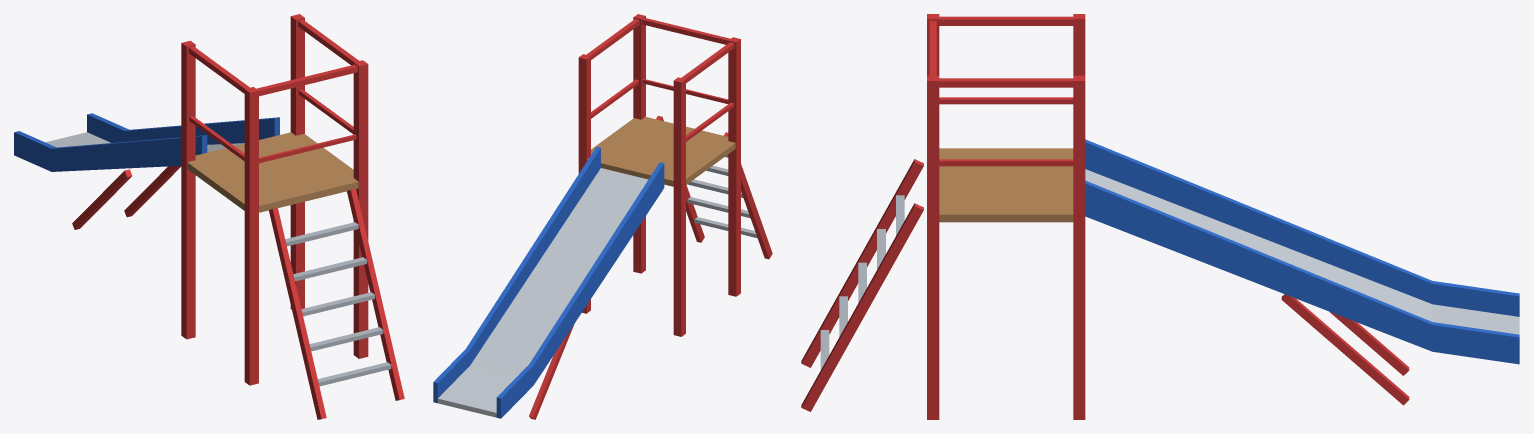
The model's file is slide.glb.
3 renders of one model, left to right at view 1: azimuth 30°, elevation 25°; view 2: azimuth 150°, elevation 25°; view 3: azimuth 270°, elevation 25°, orthographic. The views are drawn at different scales.
Parts seen in each view (by area): view 1: Body; view 2: Body; view 3: Body.
Boxes of the visible parts, <box> form: Body: <box>14,14,404,419</box>; Body: <box>433,14,772,419</box>; Body: <box>801,14,1519,419</box>.
Bounding box in the file's own units: 0.91 × 2.17 × 4.13.
